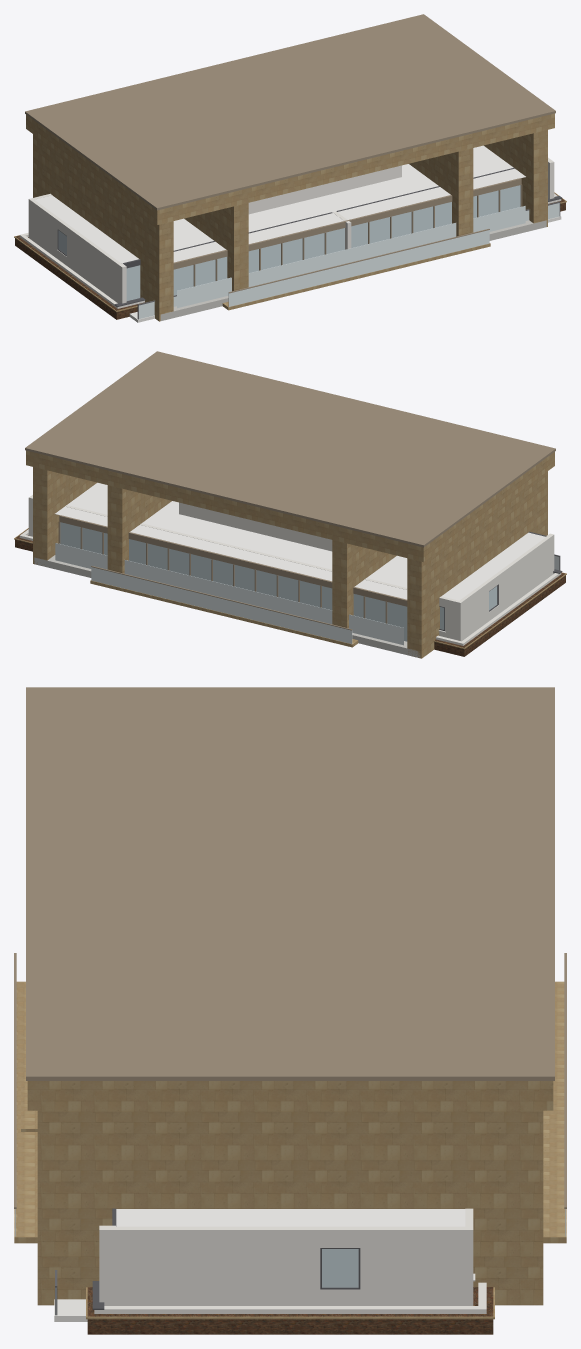
File: buildings.glb
3 renders of one model, top to bottom at view 1: azimuth 30°, elevation 25°; view 2: azimuth 150°, elevation 25°; view 3: azimuth 270°, elevation 25°, orthographic. The views are drawn at different scales.
Parts seen in each view (by area): view 1: T crown fascia, T soffit, T crown pier, T crown band, T glass, T crown glass, T balustrade, T crown pier.003, T crown pier.002, T crown pier.001, T head, LR end (+9 smaller); view 2: T crown fascia, T crown pier, T soffit, T crown band, T glass.001, T crown glass.001, T balustrade.001, T crown pier.003, T crown pier.002, T crown pier.001, T head.001, LR end (+9 smaller); view 3: T crown fascia, T crown pier.003, LR end.004, T crown band, LR end.007, LR plinth, LR soffit, T balcony.001, T balcony, LR parapet.003, LR plinth cap, LR end glass.001 (+3 smaller).
Boxes of the visible parts, bbox=[...] form: T crown fascia: bbox=[25, 14, 555, 210]; T soffit: bbox=[173, 145, 525, 262]; T crown pier: bbox=[33, 134, 173, 321]; T crown band: bbox=[26, 113, 554, 224]; T glass: bbox=[173, 185, 520, 295]; T crown glass: bbox=[177, 206, 525, 308]; T balustrade: bbox=[228, 230, 489, 306]; T crown pier.003: bbox=[484, 130, 547, 226]; T crown pier.002: bbox=[409, 148, 473, 236]; T crown pier.001: bbox=[184, 203, 248, 291]; T head: bbox=[173, 178, 521, 269]; LR end: bbox=[67, 226, 120, 303]; T crown fascia: bbox=[25, 351, 555, 547]; T crown pier: bbox=[407, 471, 547, 658]; T soffit: bbox=[55, 482, 407, 599]; T crown band: bbox=[26, 450, 554, 561]; T glass.001: bbox=[60, 522, 407, 641]; T crown glass.001: bbox=[55, 543, 403, 645]; T balustrade.001: bbox=[91, 567, 352, 643]; T crown pier.003: bbox=[33, 467, 96, 565]; T crown pier.002: bbox=[107, 485, 171, 573]; T crown pier.001: bbox=[332, 540, 396, 628]; T head.001: bbox=[59, 515, 407, 606]; LR end: bbox=[496, 537, 550, 613]; T crown fascia: bbox=[26, 687, 554, 1080]; T crown pier.003: bbox=[37, 1110, 543, 1305]; LR end.004: bbox=[116, 1226, 320, 1305]; T crown band: bbox=[27, 1081, 553, 1110]; LR end.007: bbox=[360, 1226, 473, 1305]; LR plinth: bbox=[87, 1287, 493, 1334]; LR soffit: bbox=[116, 1209, 465, 1226]; T balcony.001: bbox=[543, 981, 566, 1243]; T balcony: bbox=[14, 981, 37, 1243]; LR parapet.003: bbox=[102, 1306, 478, 1313]; LR plinth cap: bbox=[86, 1287, 494, 1319]; LR end glass.001: bbox=[322, 1249, 358, 1287].
Size of the model in its own units: 31.3 by 7.75 by 16.62.
Materials: 14 (3 with a texture image).
